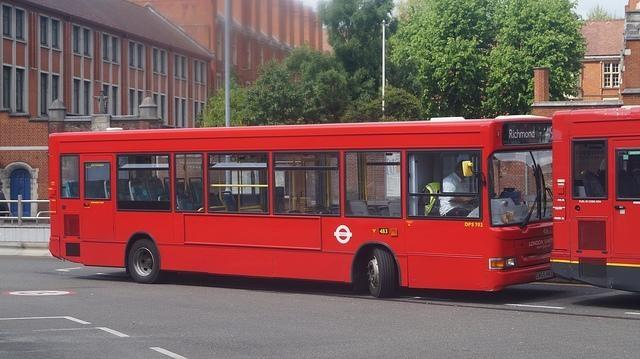bus: (46, 114, 555, 298), (550, 108, 640, 294)
